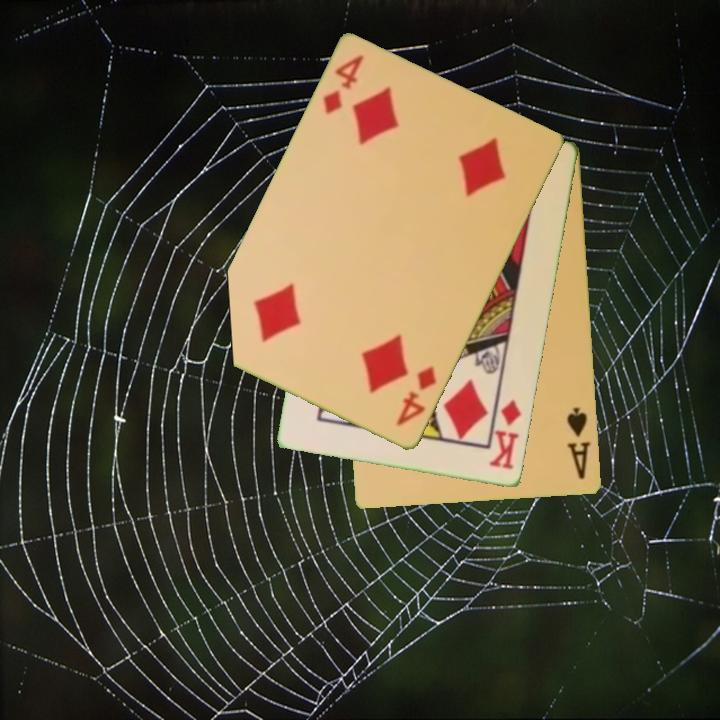4d: (319, 51, 367, 119), (393, 362, 440, 430)
As: (563, 404, 594, 482)
Kd: (486, 396, 524, 473)
